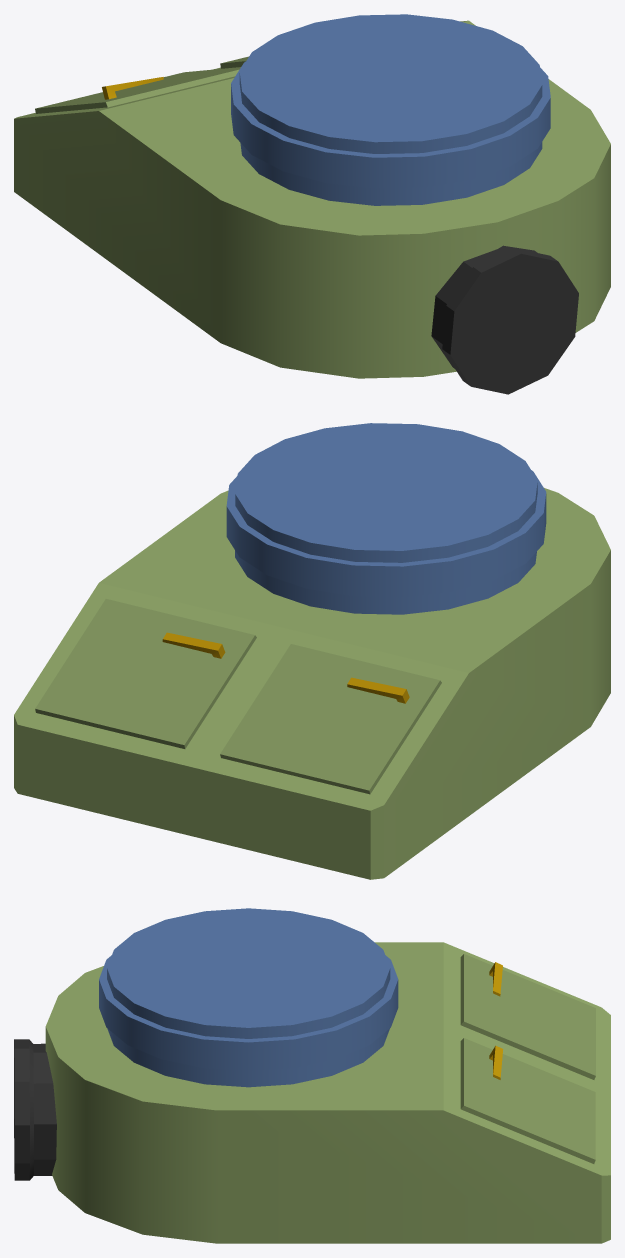
The model's file is Tratamento Esgoto.fbx.
3 views of the same model, one above another, from view 1: azimuth 30°, elevation 25°; view 2: azimuth 150°, elevation 25°; view 3: azimuth 270°, elevation 25° (orthographic). The views are drawn at different scales.
Visible parts, largest first — view 1: Cube.160; view 2: Cube.160; view 3: Cube.160.
Boxes of the visible parts, x1,y1,x2,y2 form: Cube.160: (14, 14, 610, 394); Cube.160: (14, 423, 610, 879); Cube.160: (14, 908, 610, 1243).
Bounding box in the file's own units: 434 × 249 × 651.
